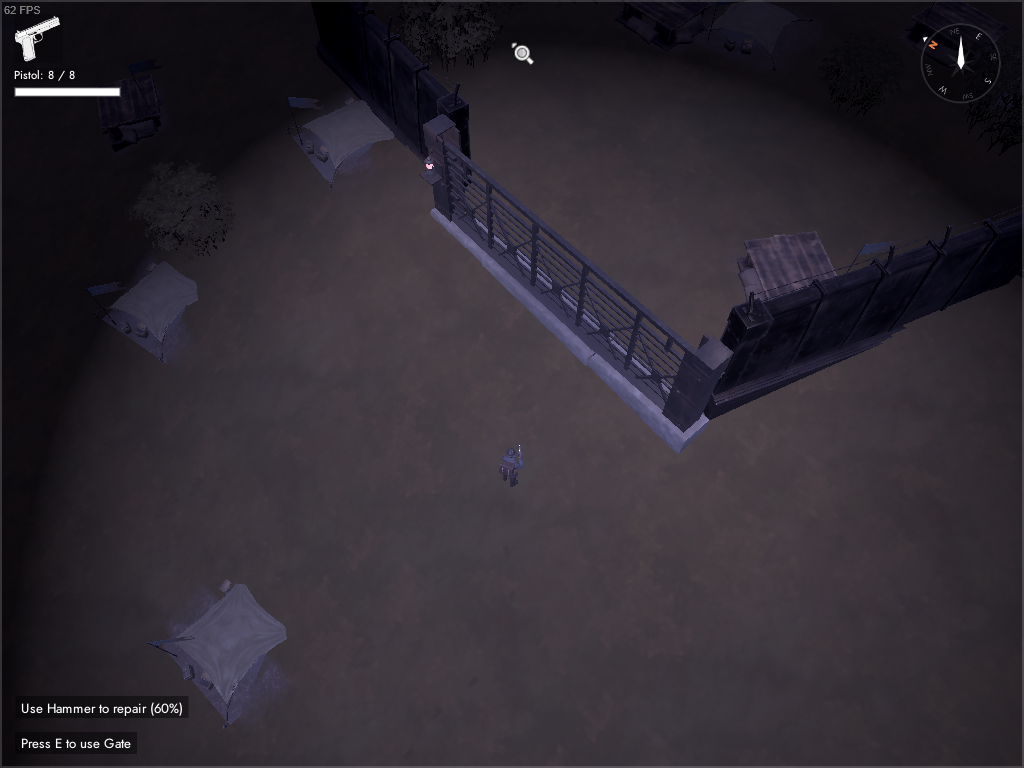fortified_wall: (697, 200, 1024, 424), (304, 1, 478, 196)
foxhole: (138, 564, 316, 737), (82, 248, 227, 374), (276, 79, 415, 197), (689, 1, 820, 81)
pillbox: (733, 224, 899, 328), (899, 1, 1013, 79), (84, 63, 170, 159), (608, 1, 719, 56)
player: (496, 441, 527, 491)
raised_gate: (419, 111, 738, 457)
